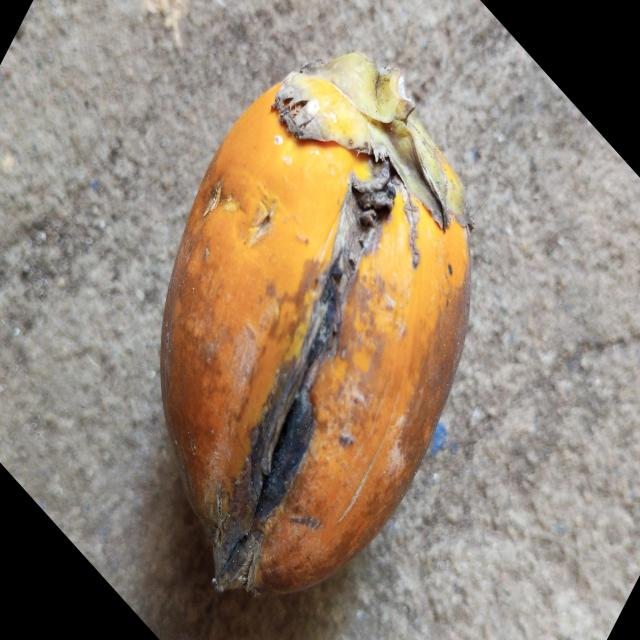damaged: (161, 53, 472, 592)
